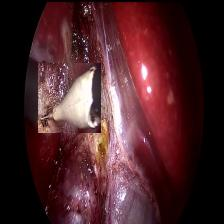Hook: (37, 62, 100, 132)
